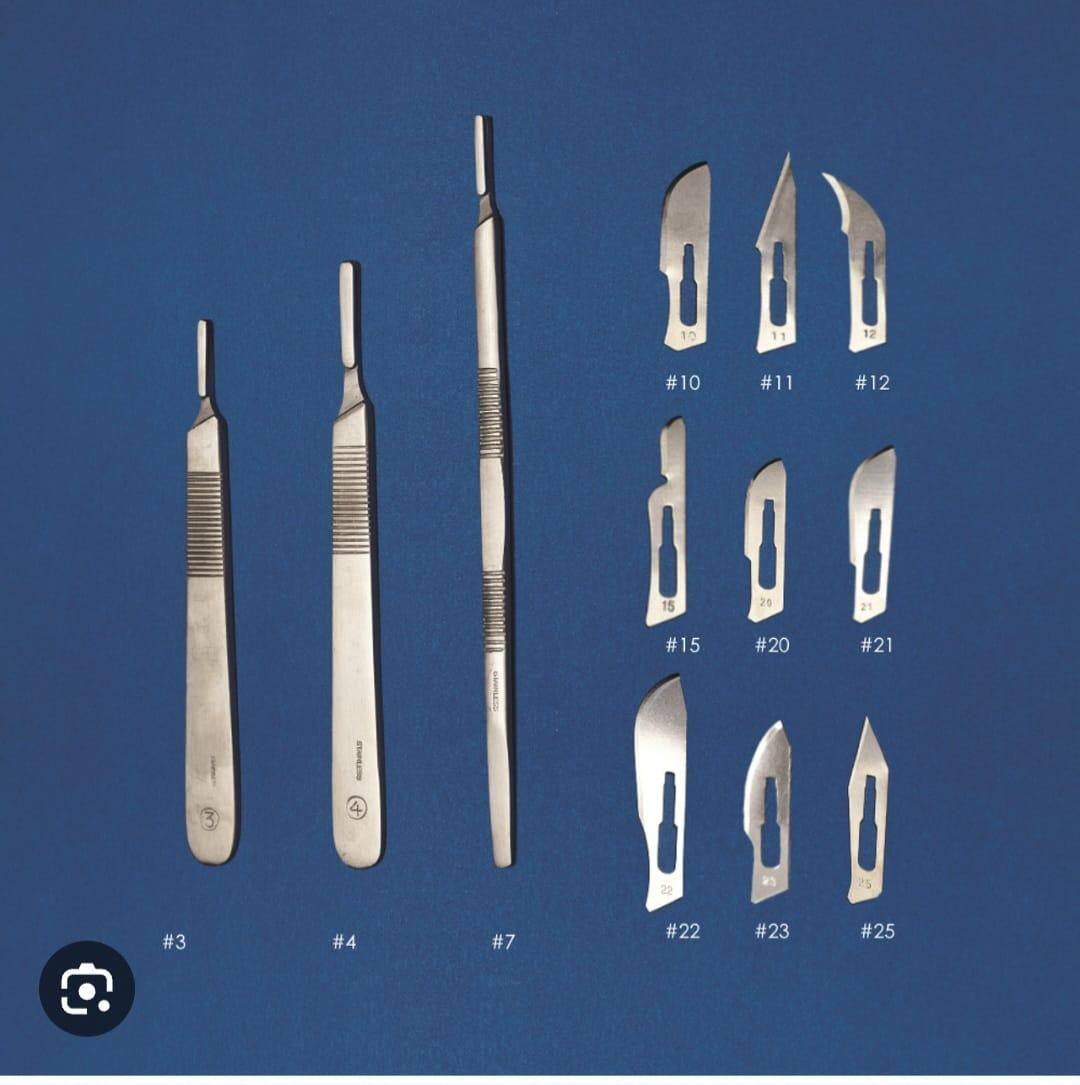Knife Blade: (605, 653, 715, 922), (605, 142, 732, 367), (815, 163, 922, 360), (835, 717, 913, 930), (713, 450, 808, 618), (732, 715, 803, 930), (747, 153, 812, 377), (833, 448, 900, 650)
Knife Handle: (98, 293, 272, 857), (293, 233, 413, 883)
